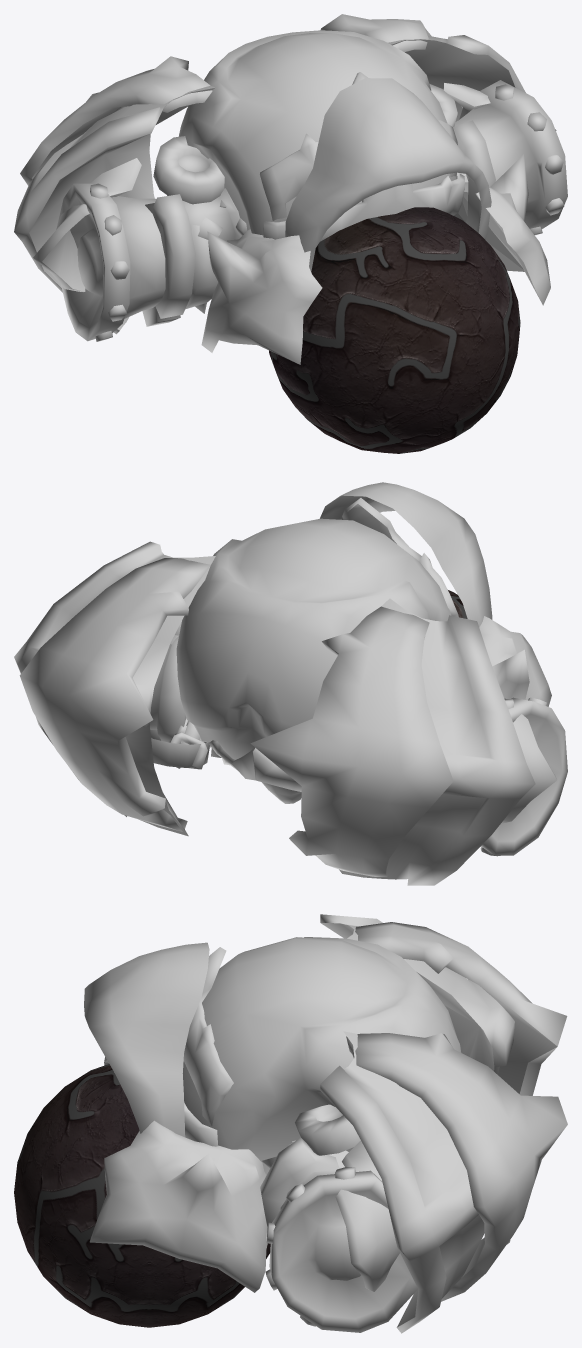
3 views of the same model, one above another, from view 1: azimuth 30°, elevation 25°; view 2: azimuth 150°, elevation 25°; view 3: azimuth 270°, elevation 25° (orthographic). The views are drawn at different scales.
Parts seen in each view (by area): view 1: ironreaver01; view 2: ironreaver01; view 3: ironreaver01.
Part boxes in pixels (x1=…): ironreaver01: x1=14, y1=14, x2=567, y2=453; ironreaver01: x1=14, y1=482, x2=567, y2=885; ironreaver01: x1=14, y1=914, x2=567, y2=1333.
Bounding box in the file's own units: 1.55 × 0.9794 × 1.34.
